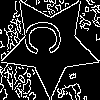C: (25, 19, 69, 56)
